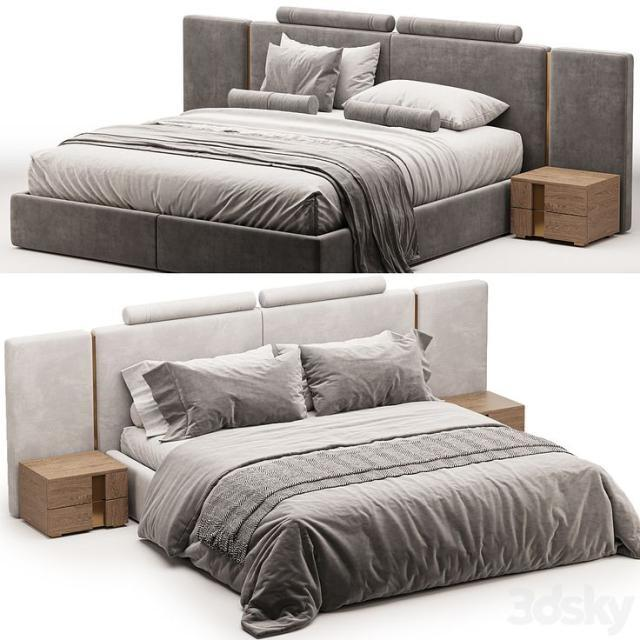obstacle: (4, 273, 638, 637), (9, 4, 634, 274), (16, 448, 126, 538), (514, 166, 622, 246)
